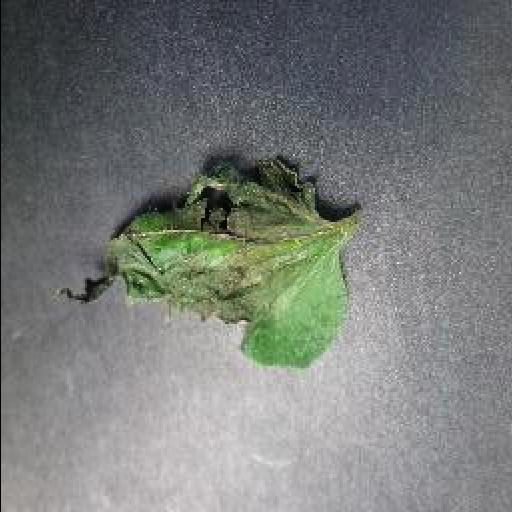disease_tomato: (52, 144, 352, 372)
